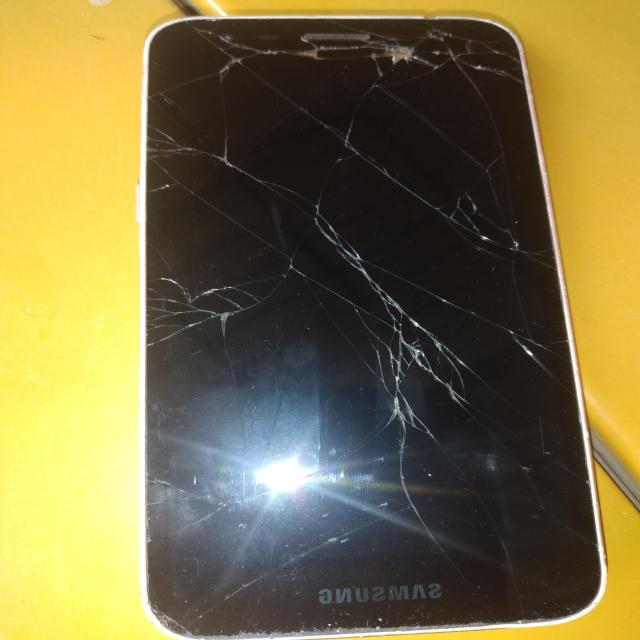mobile: (74, 11, 634, 629)
